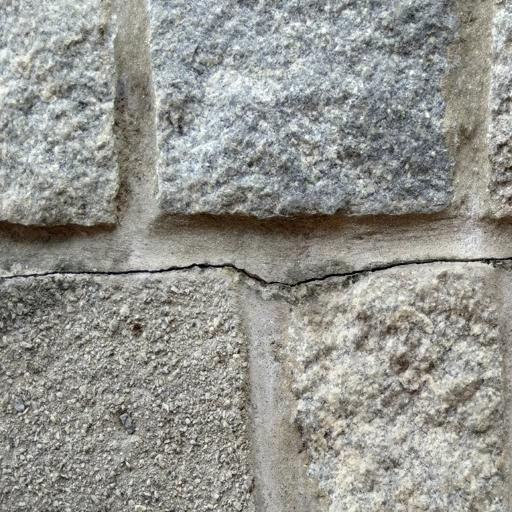minor_crack: (0, 246, 512, 295)
